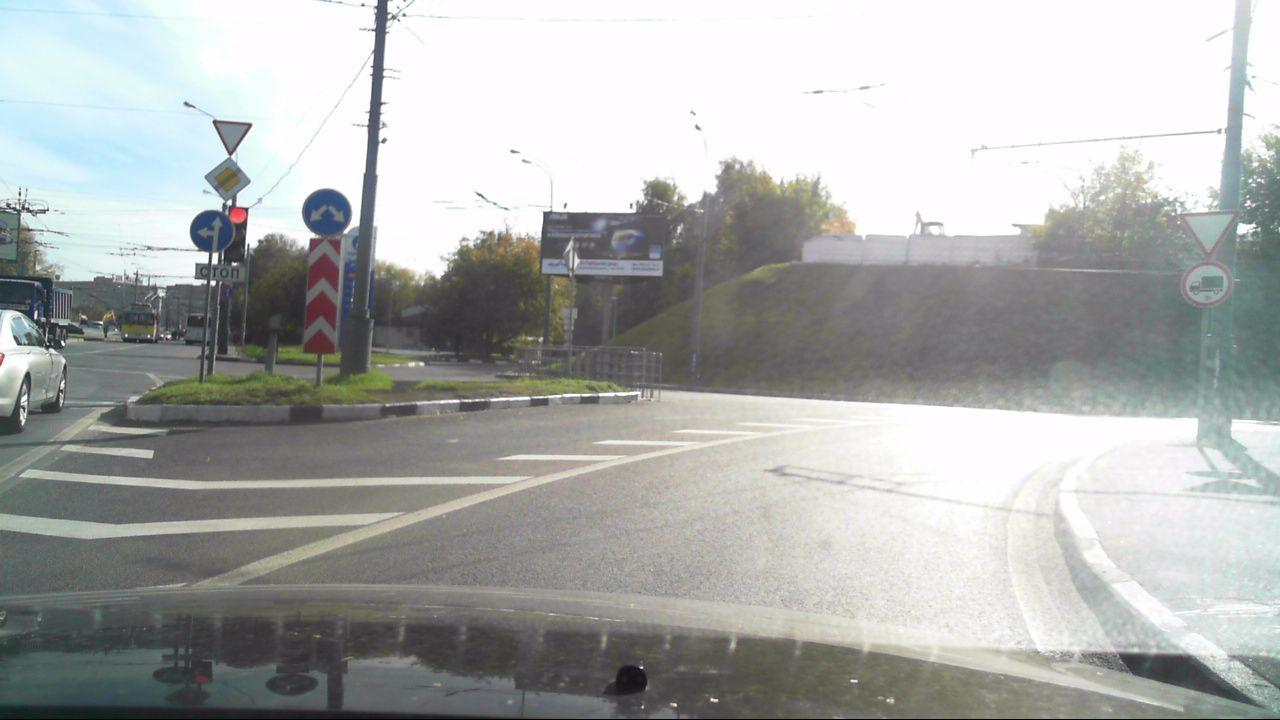2_2: (203, 158, 252, 201)
2_4: (1178, 208, 1239, 256), (210, 120, 255, 157)
3_4: (1179, 261, 1235, 309)
4_1_5: (189, 208, 234, 253)
4_2_3: (300, 187, 352, 234)
6_16: (194, 260, 243, 281)
8_22_3: (300, 236, 346, 355)
